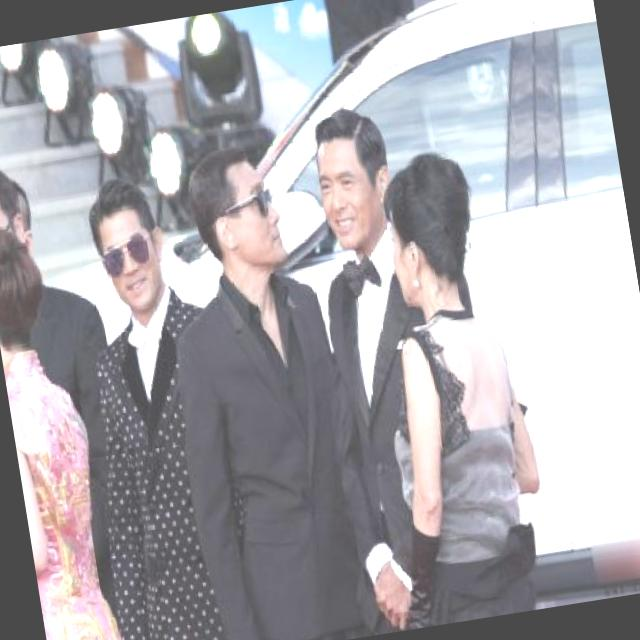Person: (260, 74, 467, 639), (167, 133, 383, 640), (60, 163, 262, 640)
